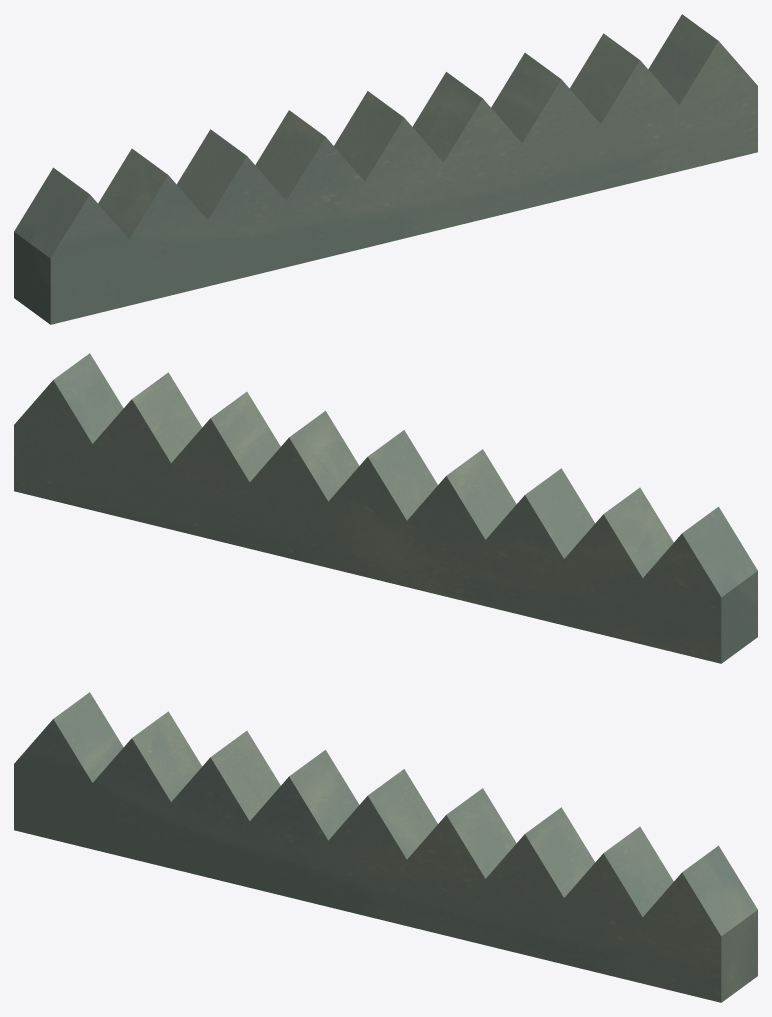
File: spike pivot.fbx
The picture shows the model from 3 angles, top to bottom: view 1: azimuth 30°, elevation 25°; view 2: azimuth 150°, elevation 25°; view 3: azimuth 330°, elevation 25°; orthographic projection.
Parts seen in each view (by area): view 1: cube spikes; view 2: cube spikes; view 3: cube spikes.
Boxes of the visible parts, bbox=[...] form: cube spikes: bbox=[14, 14, 757, 324]; cube spikes: bbox=[14, 353, 757, 663]; cube spikes: bbox=[14, 692, 757, 1002].
Bounding box in the file's own units: 356 × 58.14 × 31.89.
